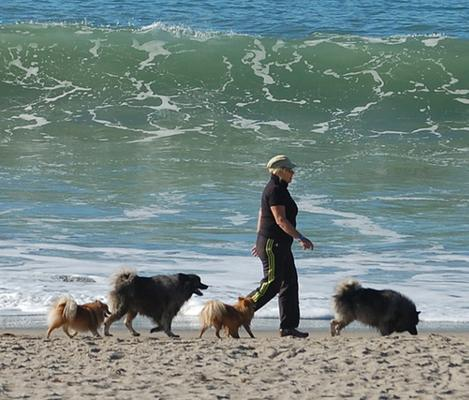person: (236, 157, 313, 338)
